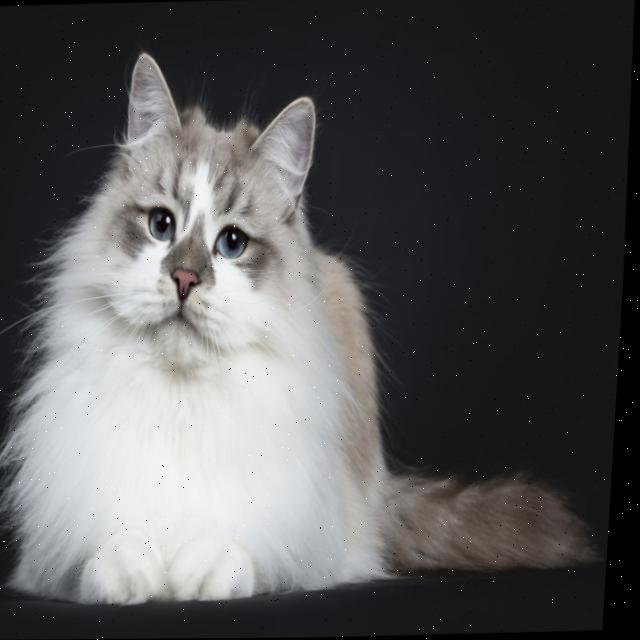Neva Masquerade: (0, 35, 620, 592)
